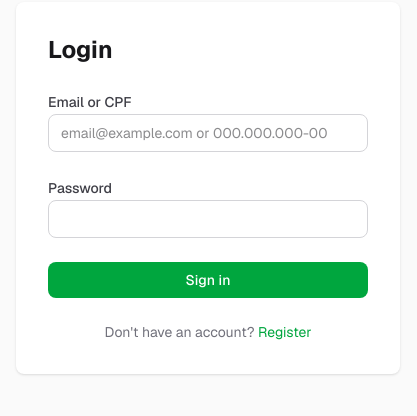
Test case: LoginPage › shows validation errors when submitting empty form
What coordinates should you click on to do the following:
click the button "Sign in"
I would click on:
 (208, 280)
Its box is [48,262,368,298].
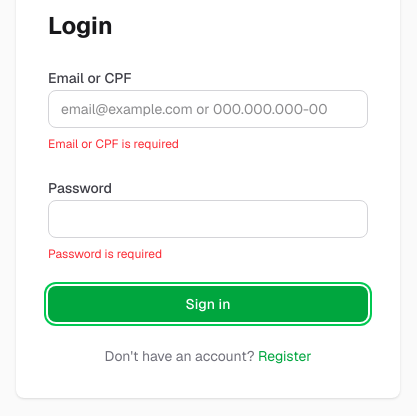
expect the text "Email or CPF is required" is shown: met, box [48,136,179,152]
expect the text "Password is required" is shown: met, box [48,246,162,262]
